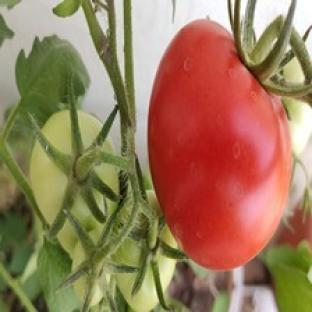Tomato: (148, 20, 292, 270), (30, 143, 68, 224), (116, 265, 158, 311), (283, 98, 311, 155), (72, 241, 87, 270)
